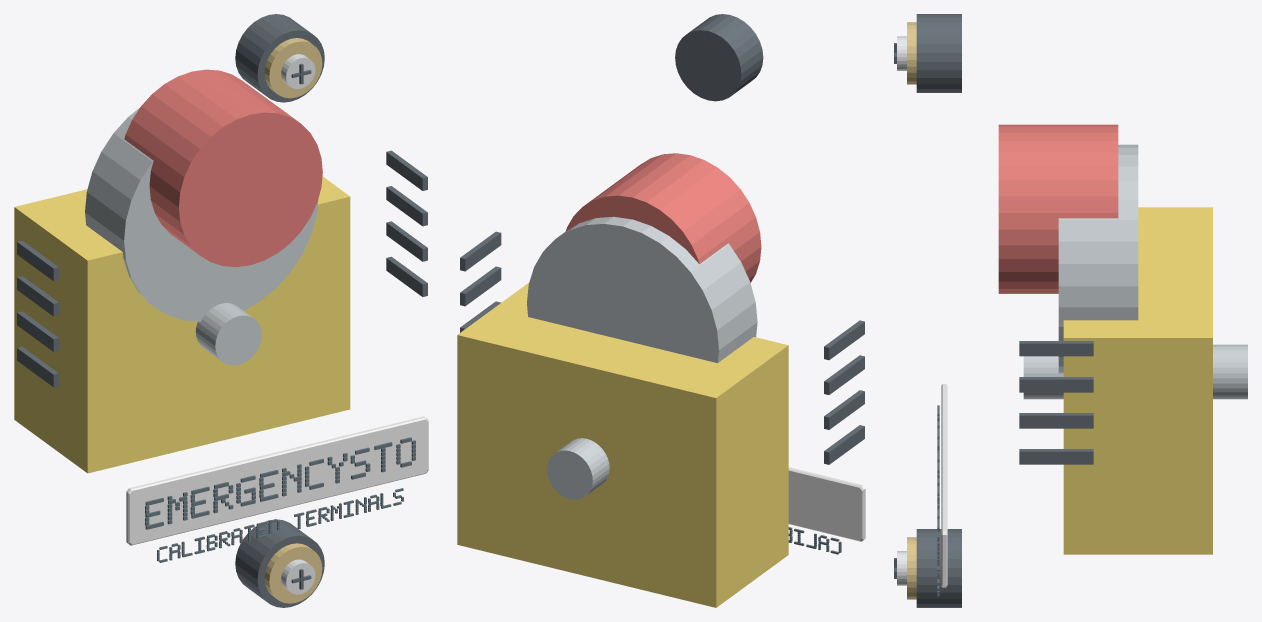
The model's file is emergencyStop.glb.
The picture shows the model from 3 angles, left to right: view 1: azimuth 30°, elevation 25°; view 2: azimuth 150°, elevation 25°; view 3: azimuth 270°, elevation 25°; orthographic projection. The views are drawn at different scales.
Visible parts, largest first — view 1: emergencyStop-detailed; view 2: emergencyStop-detailed; view 3: emergencyStop-detailed.
Boxes of the visible parts, x1=… form: emergencyStop-detailed: x1=14, y1=14, x2=428, y2=607; emergencyStop-detailed: x1=457, y1=14, x2=865, y2=607; emergencyStop-detailed: x1=894, y1=14, x2=1247, y2=607.
Size of the model in its own units: 1.75 by 2.56 by 1.4.
